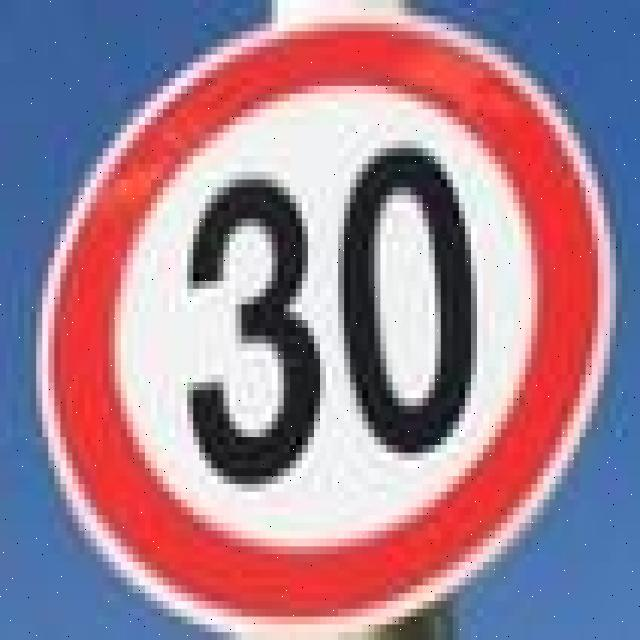speed limit 30: (32, 20, 614, 639)
